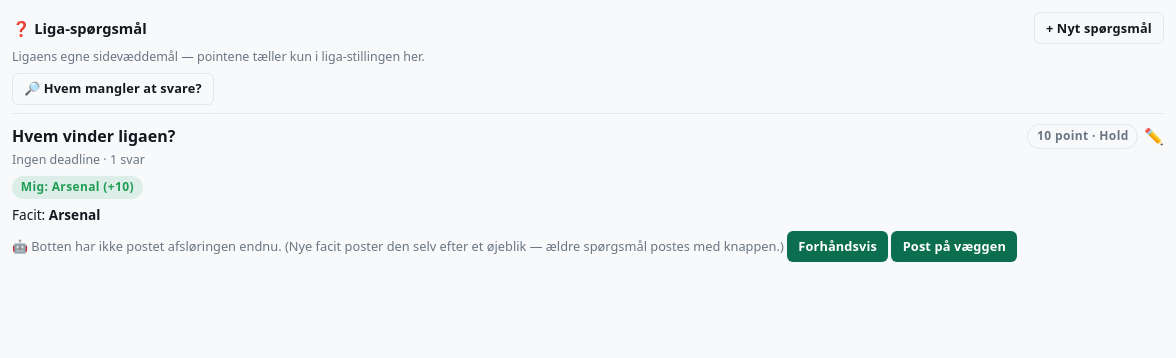
Test case: LeagueQuestions — Runde-Bottens afsløring (ejer) › ejer ser Forhåndsvis/Post når opslaget mangler — teksten vises, og Post poster
Expected: the element with test id "lq-bot-q1" shows "ikke postet", [12,237,784,255]
Click the button "Forhåndsvis".
click(838, 247)  # box [787,232,888,262]
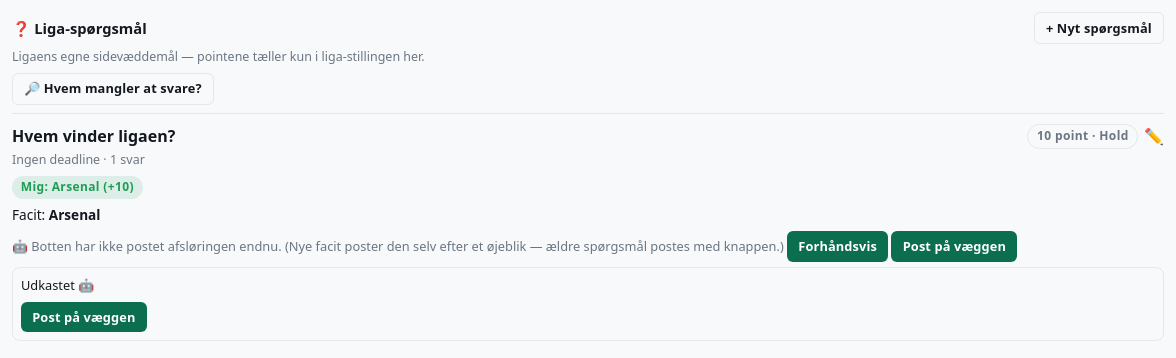
Expected: the element with test id "lq-bot-udkast-q1" shows "Udkastet 🤖", [21,276,94,294]
Post fra udkastet — dryRun: false.
Click the button "Post på væggen" below "Udkastet 🤖".
click(84, 317)  # box [21,302,147,332]
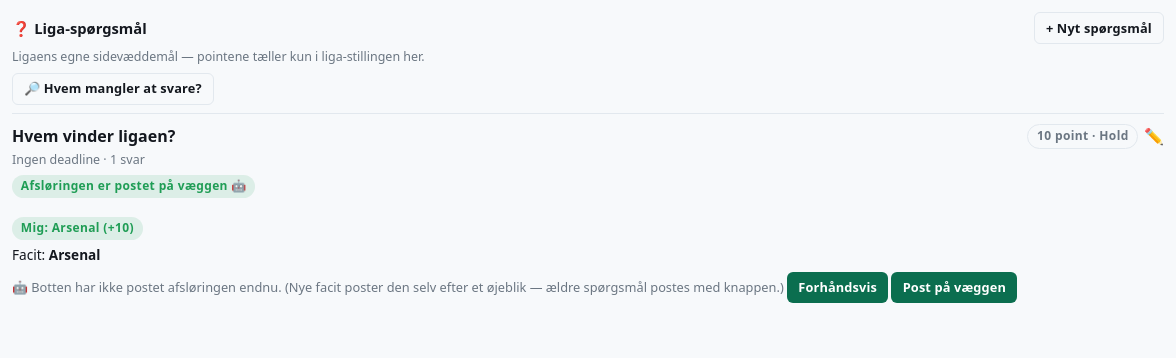
Expected: the text "Afsløringen er postet på væggen 🤖" is shown, [12,175,256,198]
